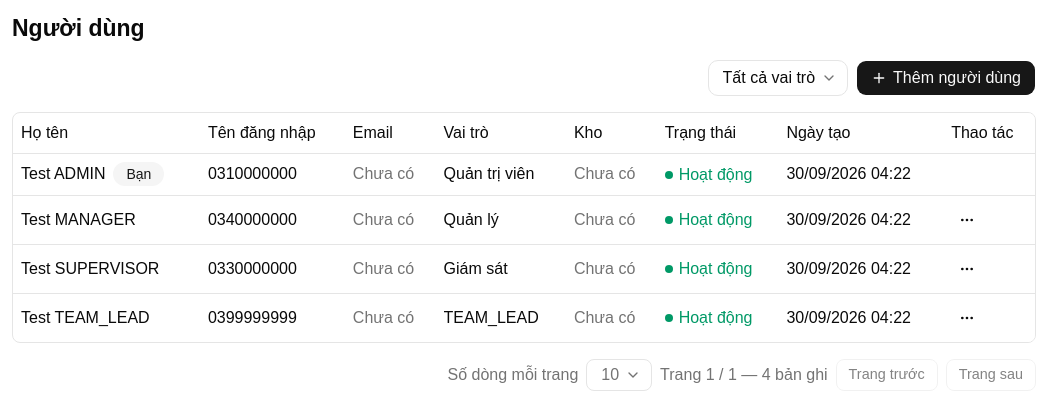
Scenario: UsersPage — ADMIN › menu của dòng MANAGER chỉ có Đặt lại mật khẩu (cờ sửa/khoá/xoá tắt)
The image size is (1048, 408).
Click the button named "Thao tác với Test MANAGER" at (967, 220), box [951,204,983,236]
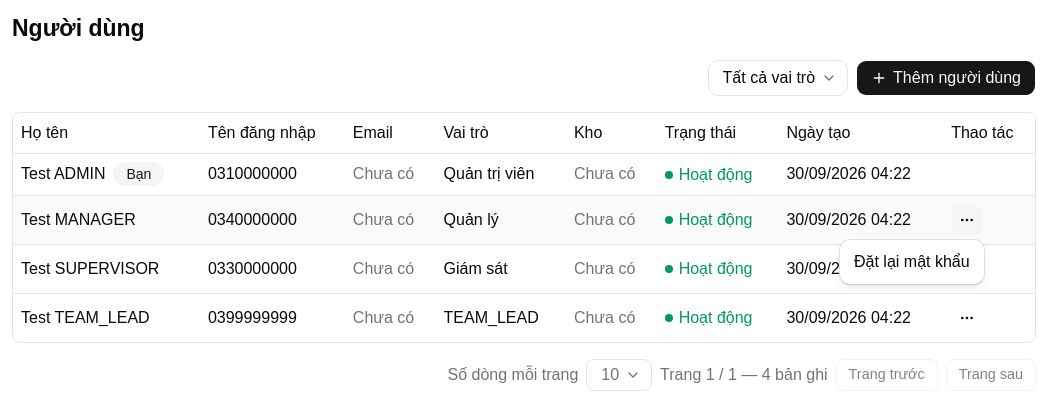
Expected: the menu items read "Đặt lại mật khẩu", in this order, [854,253,970,270]
